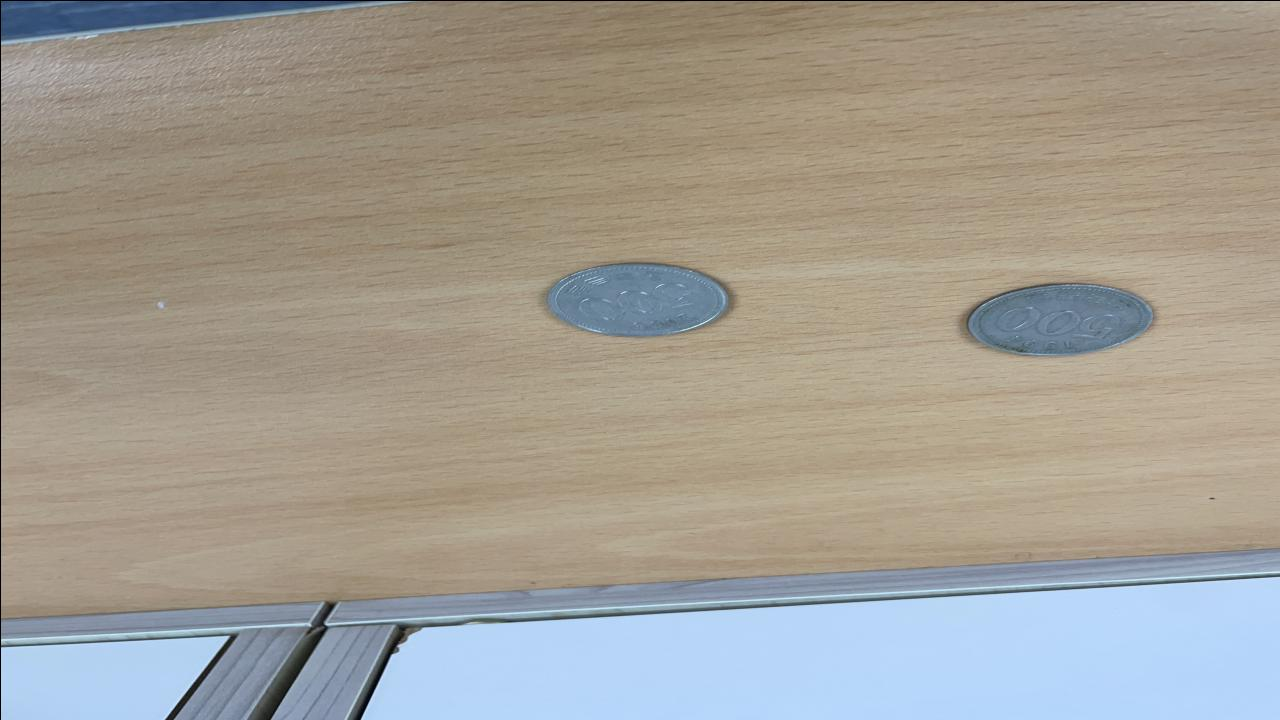coin: (964, 281, 1156, 355), (544, 260, 730, 335)
